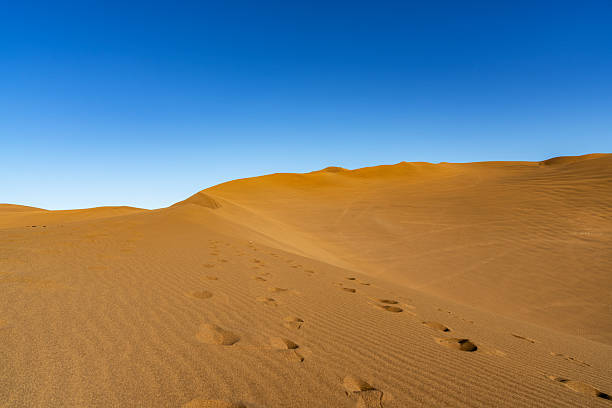human_foot_print: (548, 376, 611, 399), (343, 375, 382, 407), (196, 323, 239, 345), (270, 336, 303, 361), (182, 398, 245, 407), (550, 352, 590, 366), (435, 338, 477, 351), (374, 298, 403, 312), (422, 321, 450, 331), (283, 316, 303, 328), (375, 304, 403, 312), (511, 333, 535, 342), (256, 296, 277, 305), (189, 290, 212, 298), (268, 287, 287, 292), (342, 287, 356, 292), (204, 275, 217, 280), (253, 276, 266, 281)
